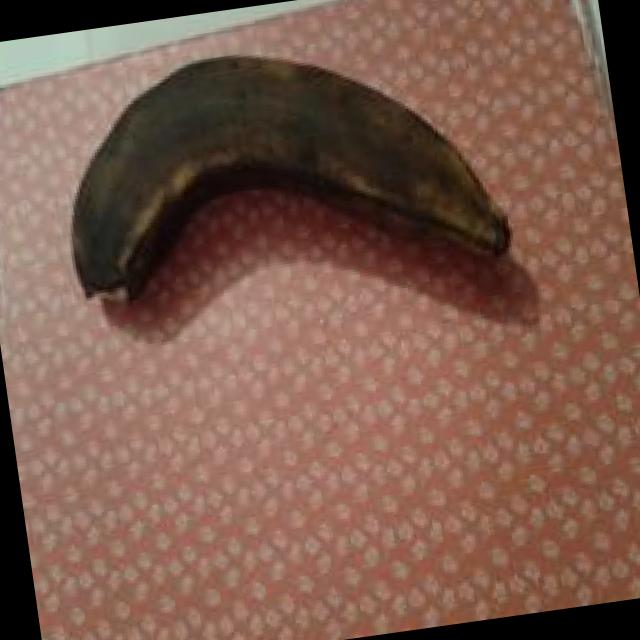Rotten_Banana: (29, 34, 552, 328)
